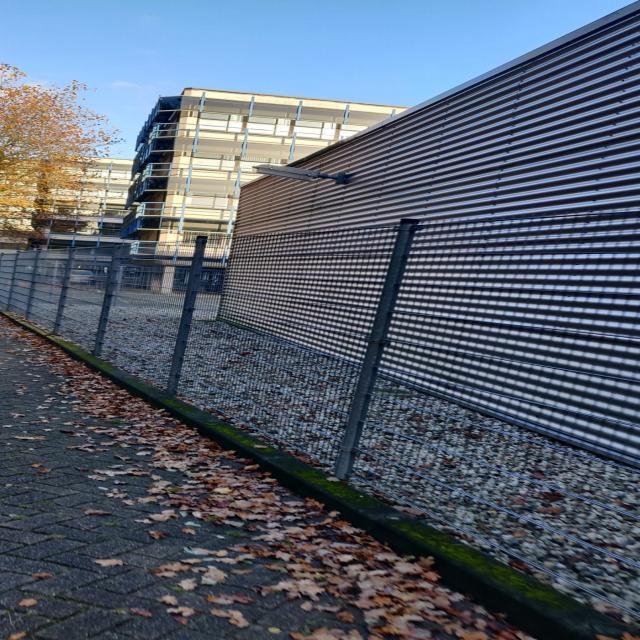fence line: (256, 217, 640, 592), (7, 237, 413, 457)
